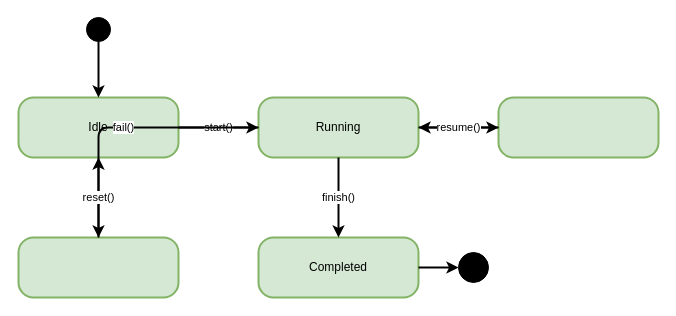
Some shapes in this 676 by 316 pixel diagram are drawn without their labels. The centre of each missing label's shape, as x and y in pixels:
"Error" goes at (98,267).
"Paused" goes at (578,127).
